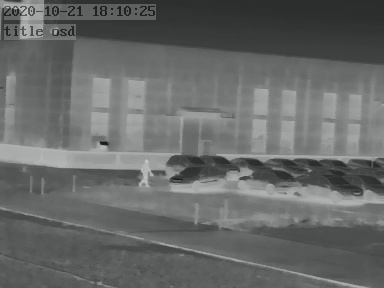person: (141, 158, 153, 188)
vehicle: (301, 174, 364, 201), (239, 169, 303, 194), (169, 167, 226, 189), (194, 153, 242, 174), (355, 173, 384, 202), (165, 153, 204, 169), (232, 155, 270, 171), (261, 156, 301, 171), (343, 156, 378, 171), (316, 156, 348, 170), (296, 157, 327, 169)
